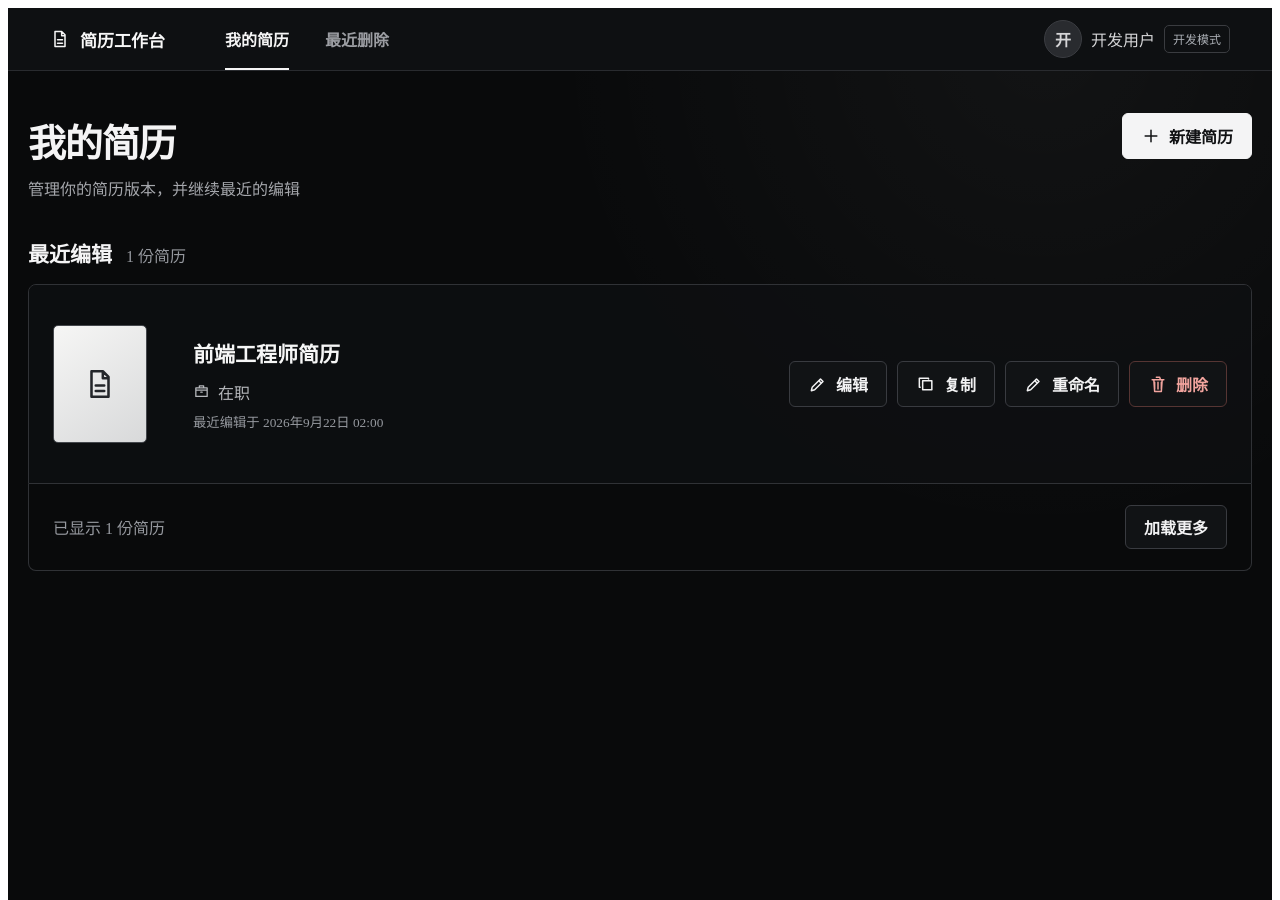
resume dashboard › keeps existing cards when loading the next page fails
Expected: the link "前端工程师简历" is shown, [193,342,340,366]
Click the button "加载更多": [1176, 527] box [1125,505,1227,549]
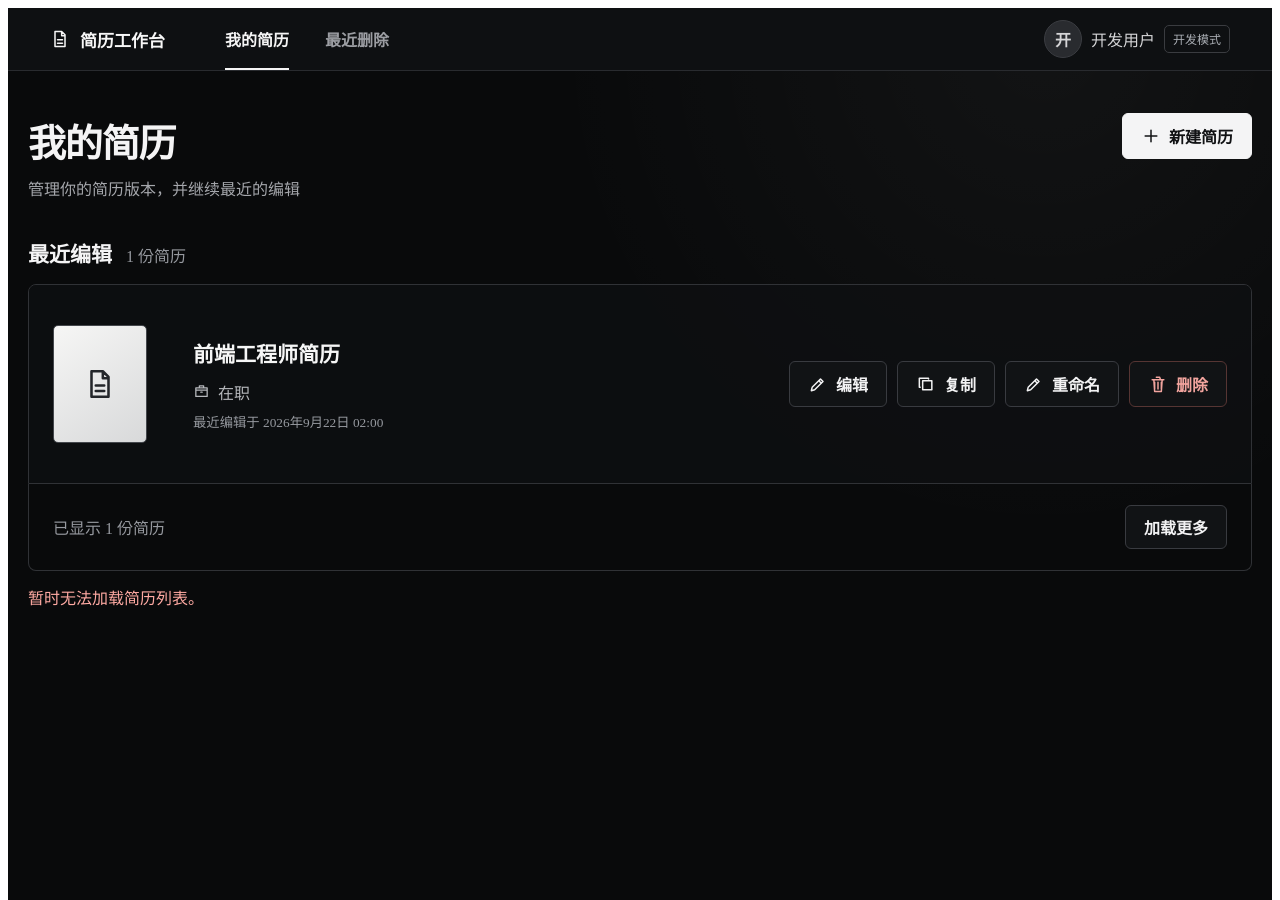
Expected: the link "前端工程师简历" is shown, [193,342,340,366]
Now the message shows "暂时无法加载简历列表", box [28,590,204,607]
